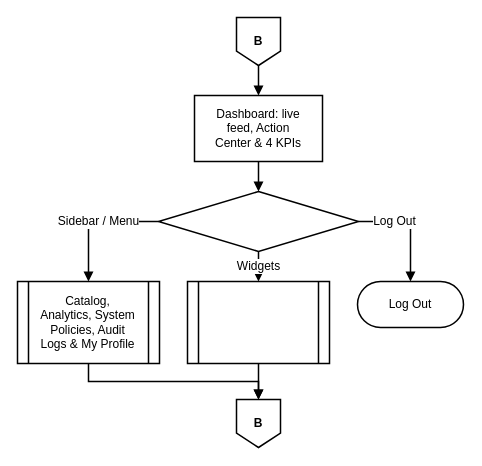
This 482x466 diagram has some shape labels left out. The centre of each missing label's shape, as x and y in pixels:
"Inventory, Circulation Desk, Logs, Users, Book or Card" belongs at pixel 258 322.
"Select action?" belongs at pixel 258 221.
